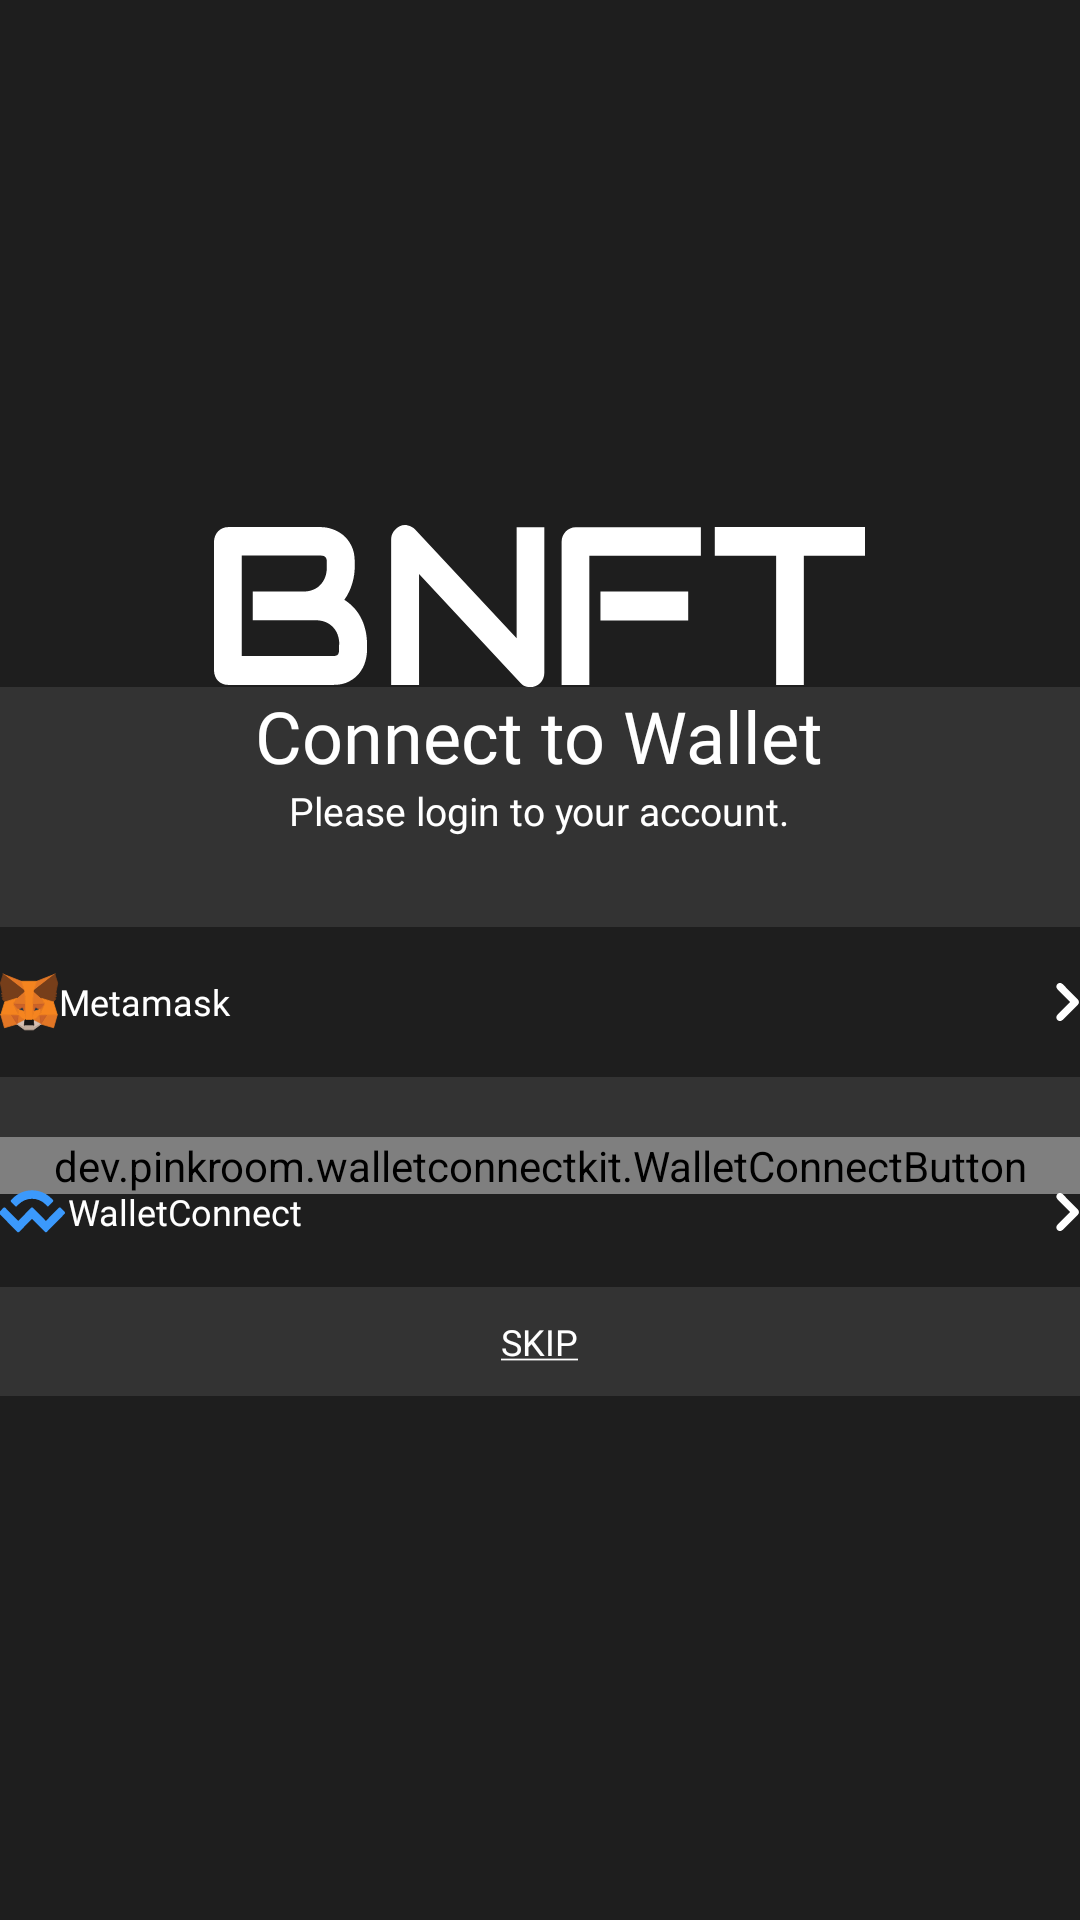

Named icons in this screenshot (1080w x 1920h) and their bounding boxes, (x1, y1, x2, y2):
next arrow: (1056, 983, 1079, 1021), (1054, 1191, 1080, 1231)
